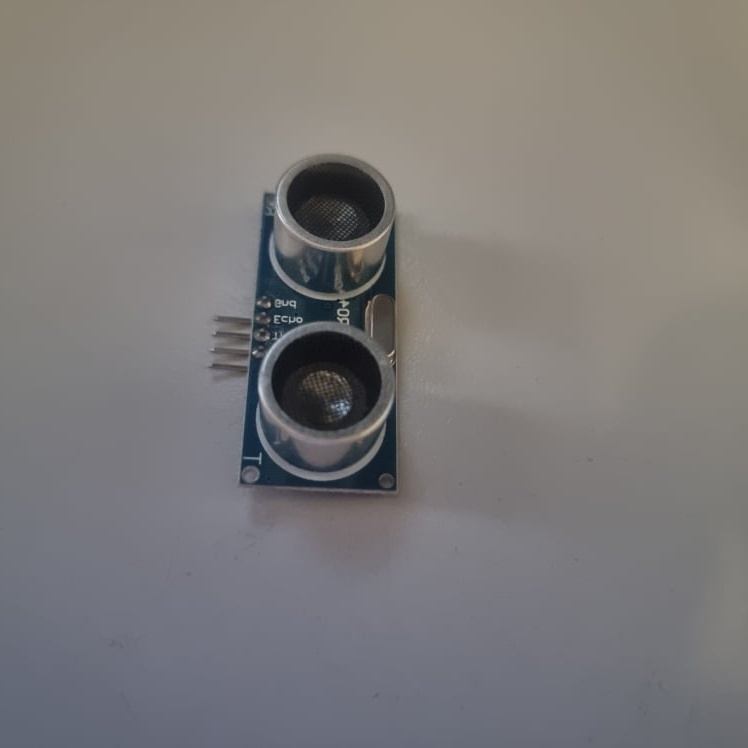SENSOR: (207, 153, 404, 495)
